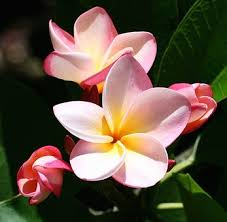frangipani: (54, 56, 193, 188)
